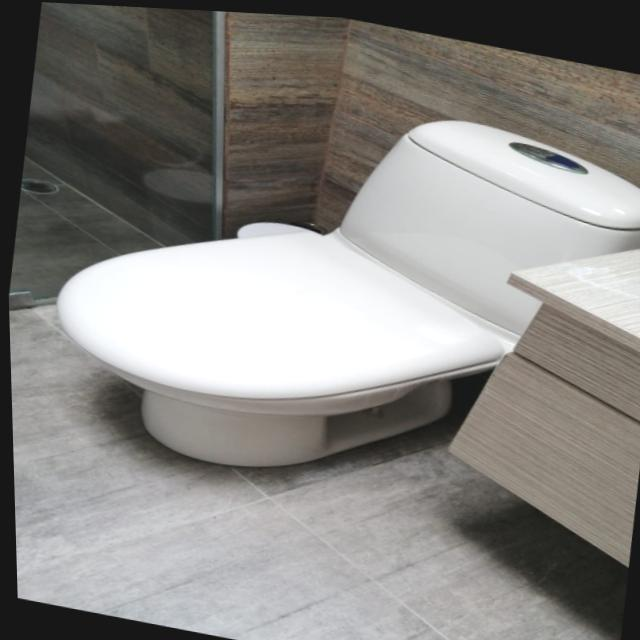toilet: (28, 43, 640, 537)
